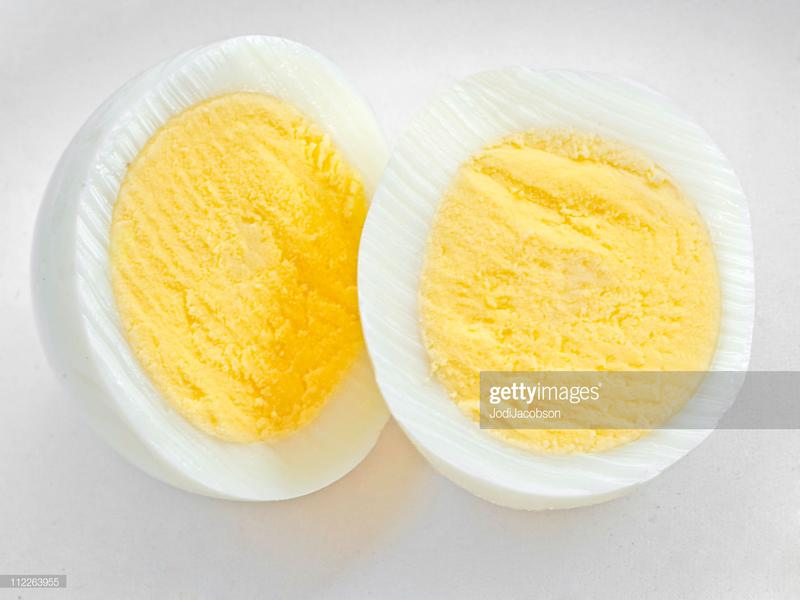egg: (41, 21, 800, 572)
